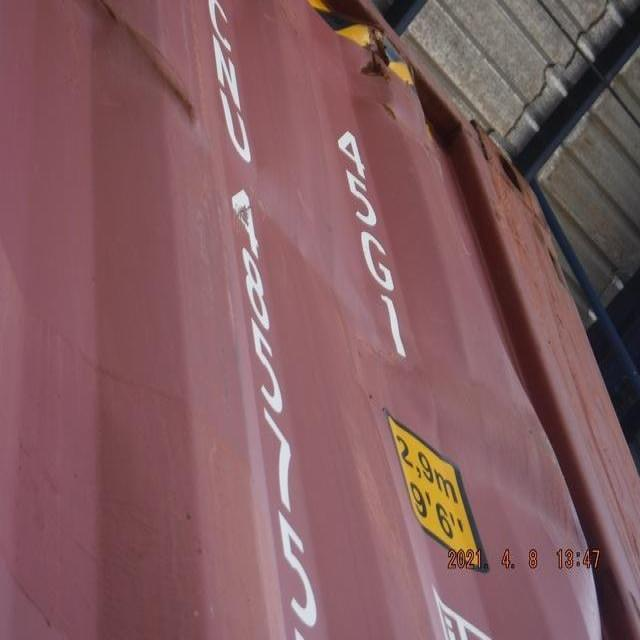dent: (279, 322, 589, 548), (220, 138, 410, 320), (320, 73, 445, 182)
